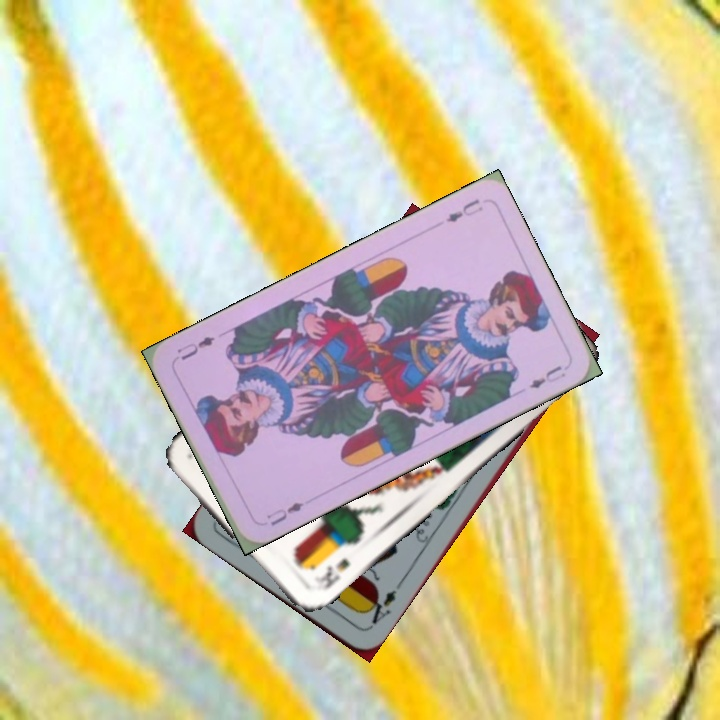EA: (360, 585, 399, 631)
EK: (310, 554, 353, 594)
EU: (263, 495, 313, 529), (441, 195, 486, 225)
